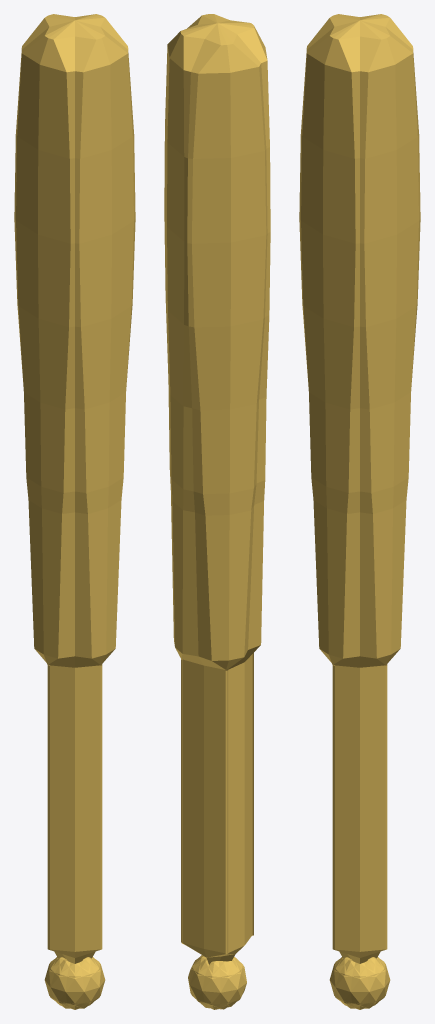
File: BaseballBat.fbx
3 views of the same model, side by side, from view 1: azimuth 90°, elevation 25°; view 2: azimuth 150°, elevation 25°; view 3: azimuth 270°, elevation 25° (orthographic).
Parts seen in each view (by area): view 1: Sphere; view 2: Sphere; view 3: Sphere.
Part boxes in pixels (x1=…): Sphere: x1=14, y1=14, x2=135, y2=1009; Sphere: x1=164, y1=14, x2=270, y2=1009; Sphere: x1=299, y1=14, x2=420, y2=1009.
Bounding box in the file's own units: 52.21 × 482 × 53.61.
